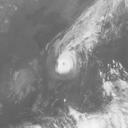cyclone: (56, 51, 78, 75)
